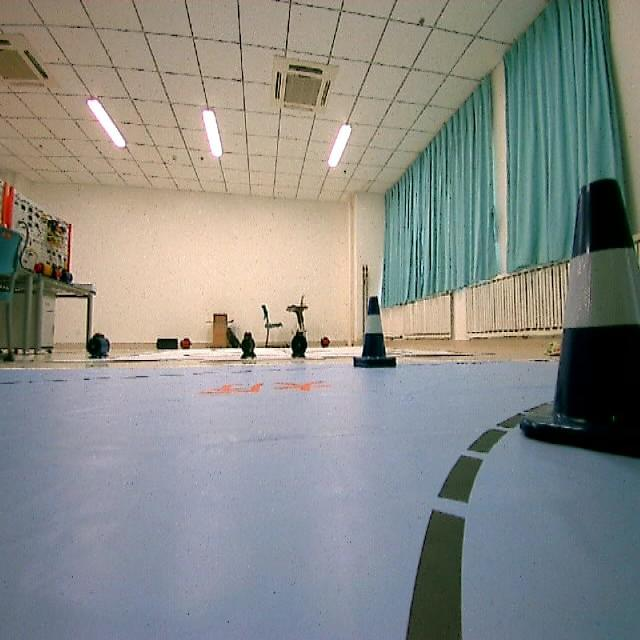obstacle: (518, 182, 640, 465), (344, 292, 403, 382)
